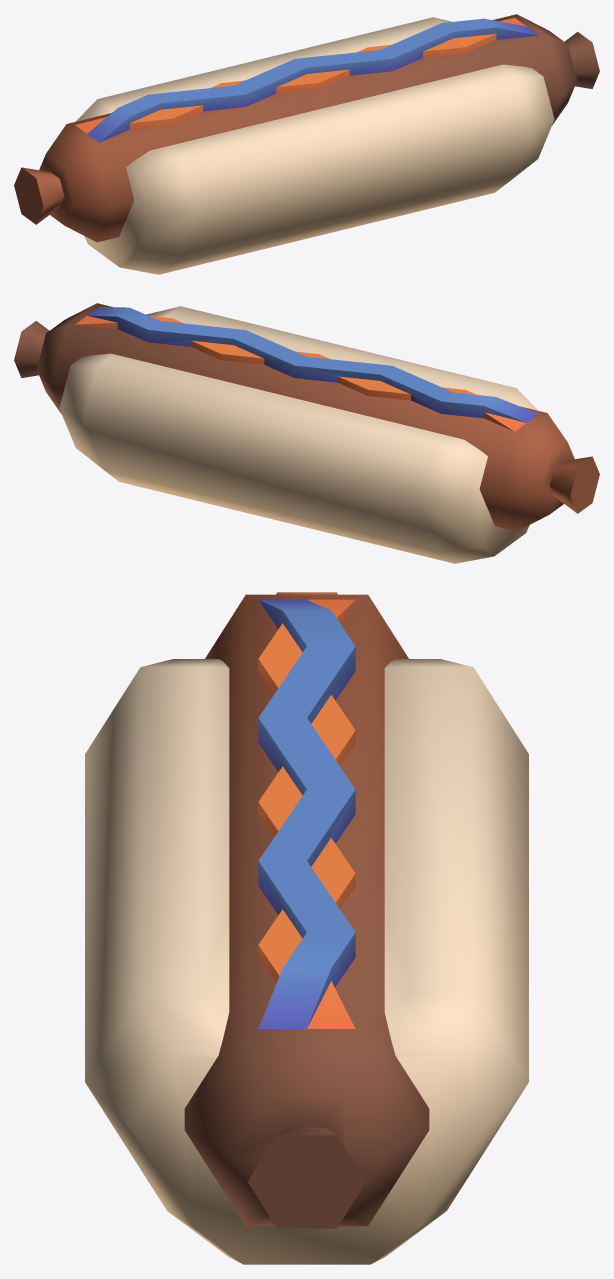
File: hot-dog.glb
3 views of the same model, one above another, from view 1: azimuth 30°, elevation 25°; view 2: azimuth 150°, elevation 25°; view 3: azimuth 270°, elevation 25° (orthographic). The views are drawn at different scales.
Parts seen in each view (by area): view 1: hot-dog, sausage, sauce; view 2: hot-dog, sausage, sauce; view 3: hot-dog, sausage, sauce.
Boxes of the visible parts, box(x1,y1,x2,y2) form: hot-dog: box(75, 17, 554, 274); sausage: box(14, 14, 599, 242); sauce: box(75, 18, 538, 142); hot-dog: box(59, 306, 538, 563); sausage: box(14, 303, 599, 531); sauce: box(75, 306, 538, 431); hot-dog: box(85, 659, 528, 1264); sausage: box(184, 592, 429, 1228); sauce: box(258, 599, 355, 1028).
Bounding box in the file's own units: 0.5859 × 0.1525 × 0.2026.
Materials: 1 (1 with a texture image).
